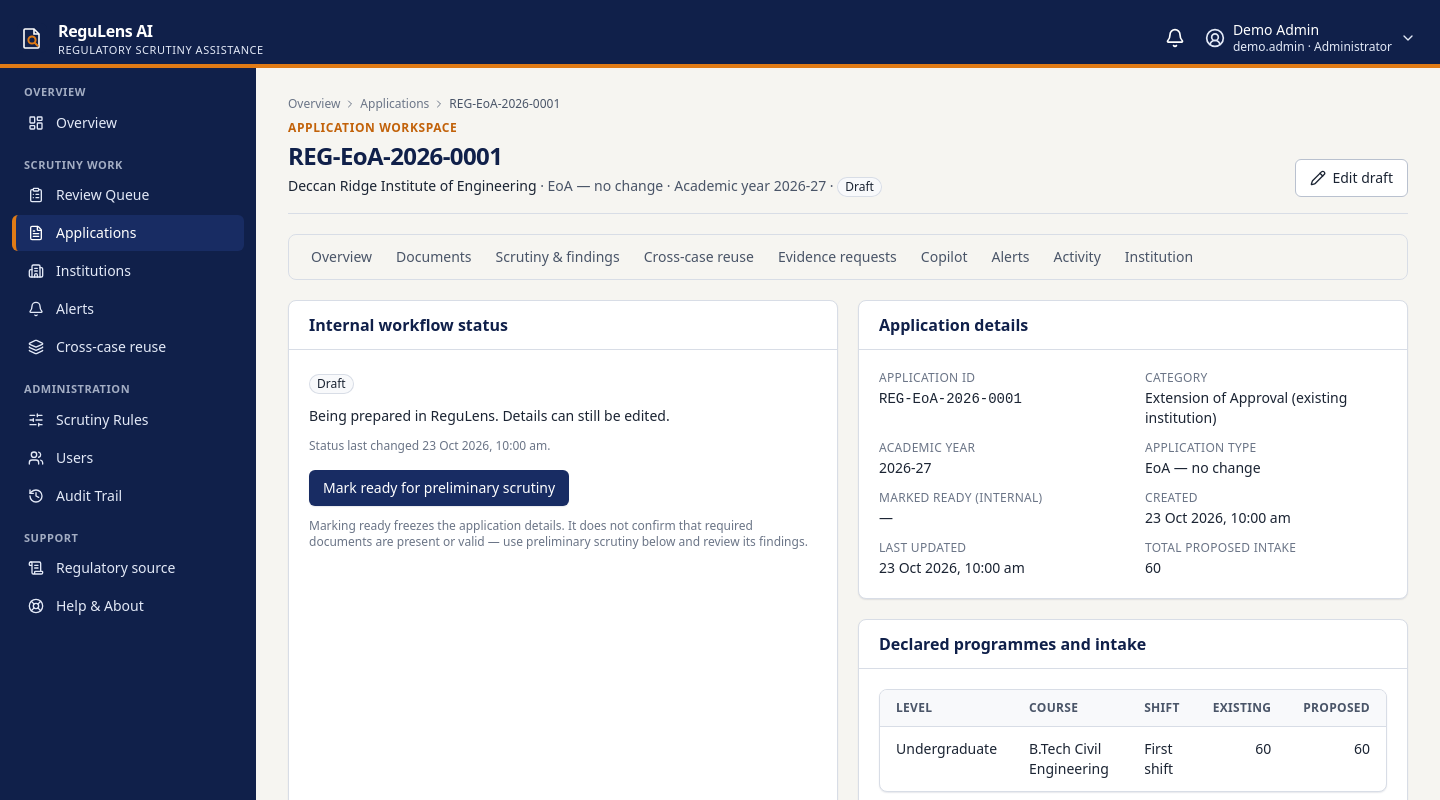
Test case: Application detail › changes status and shows a server rejection
This screenshot has width=1440, height=800.
Click the button "Mark ready for preliminary scrutiny" at {"x": 439, "y": 488}, box [309,470,569,506]
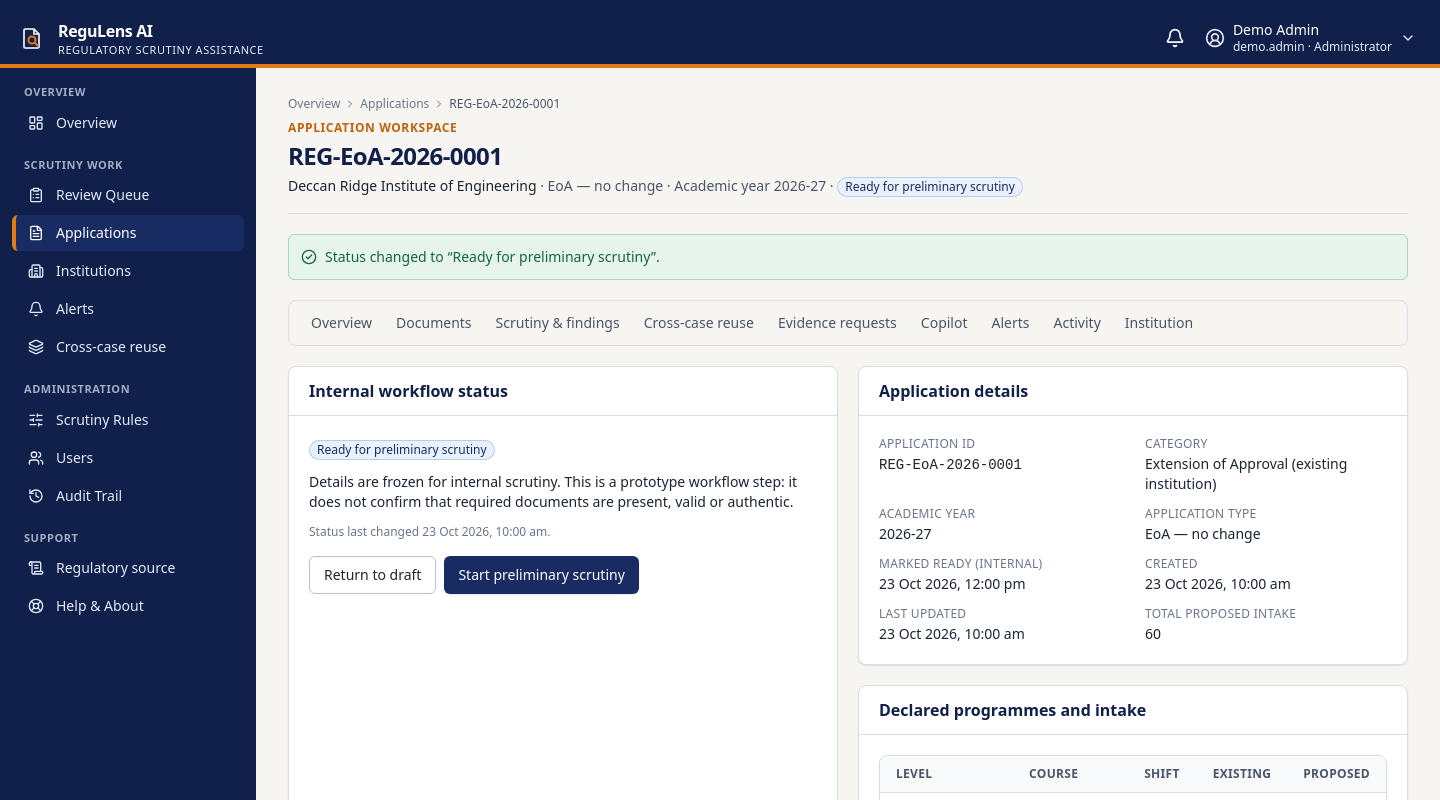
Expected: the text "Status changed to “Ready for preliminary scrutiny”." is shown, [325,247,660,267]
Expected: the button "Edit draft" is gone
Click the button "Start preliminary scrutiny" at {"x": 542, "y": 575}, box [444,556,639,594]
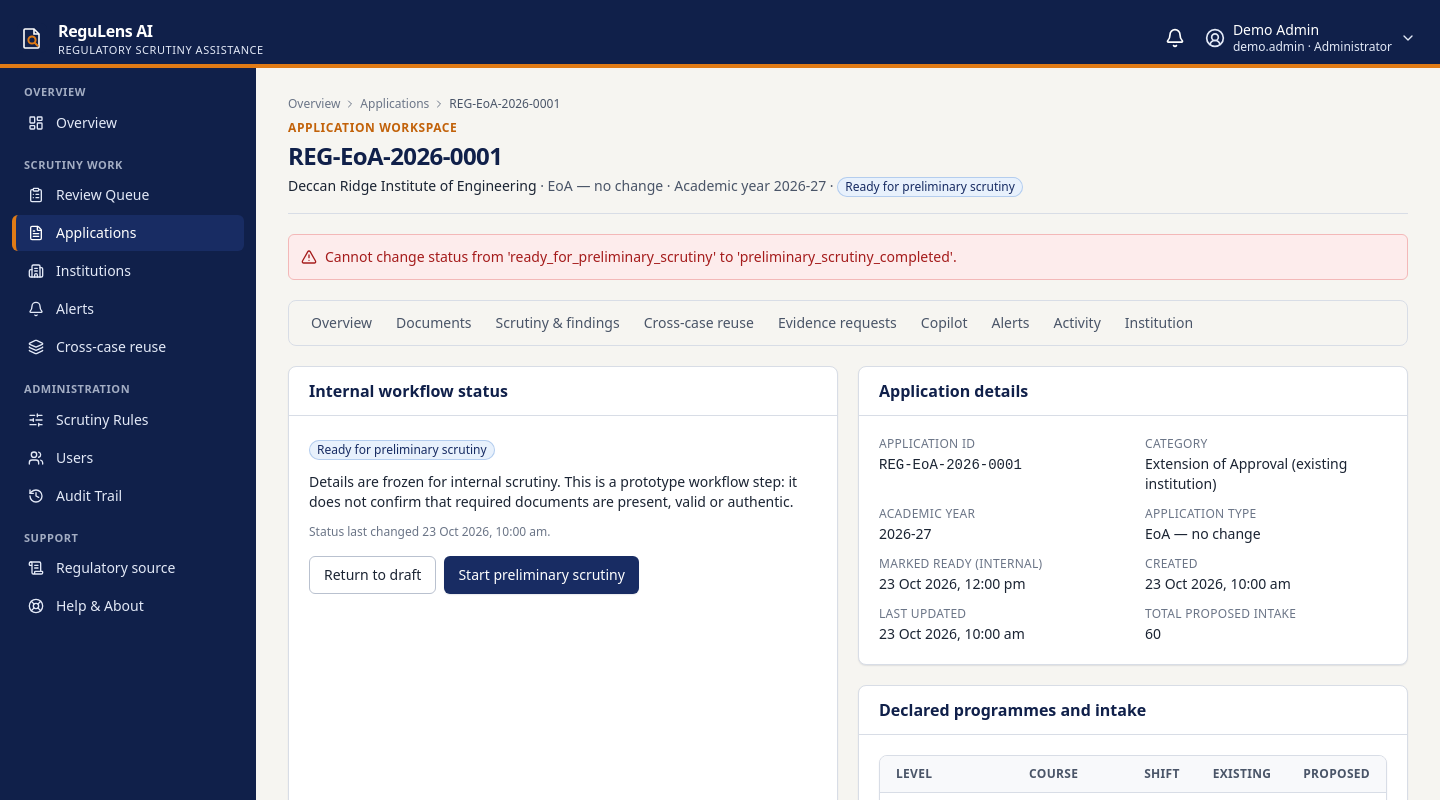
Expected: the message shows "Cannot change status", [325,247,957,266]
